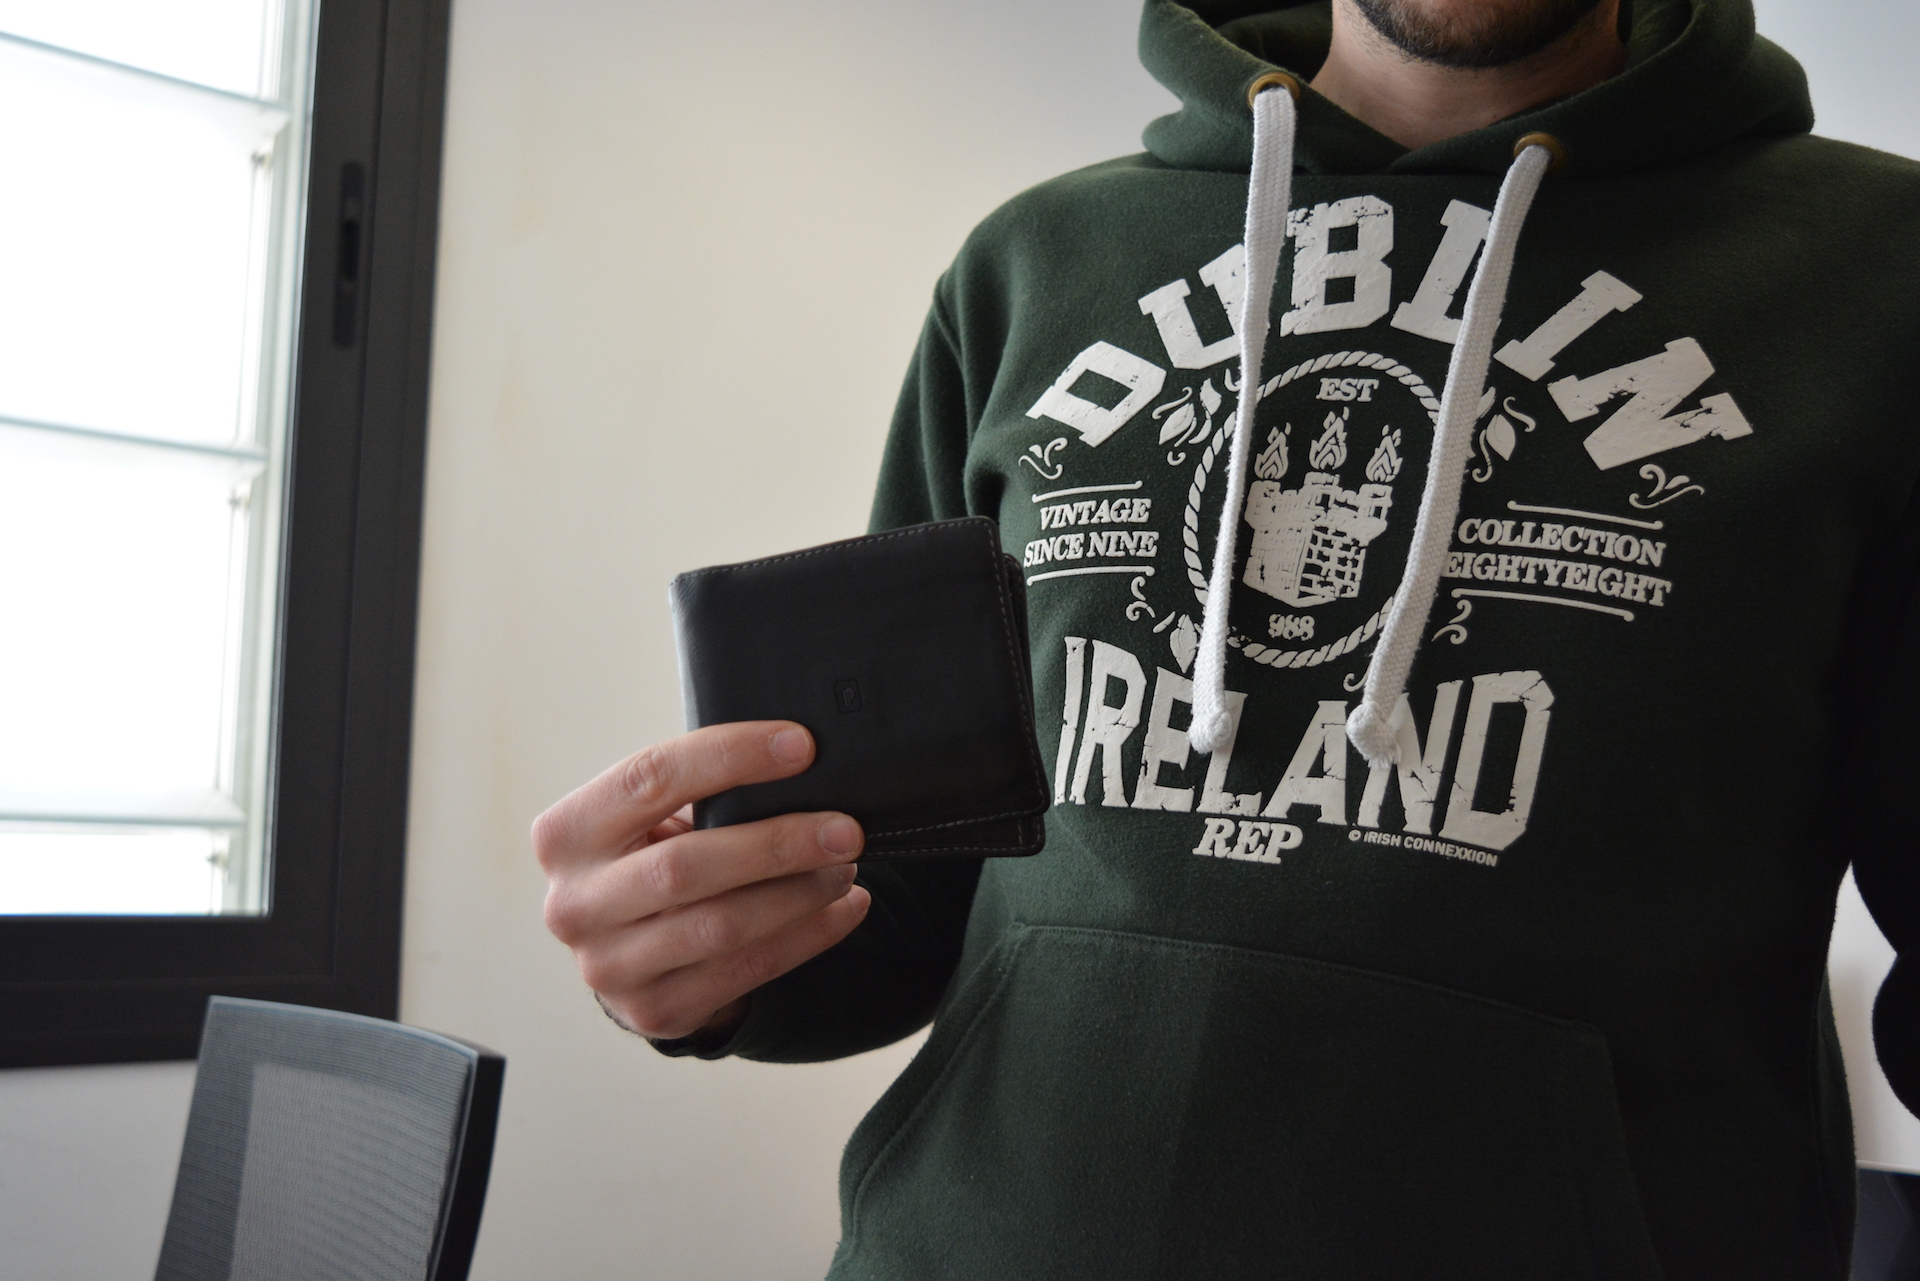monedero: (665, 512, 1054, 866)
